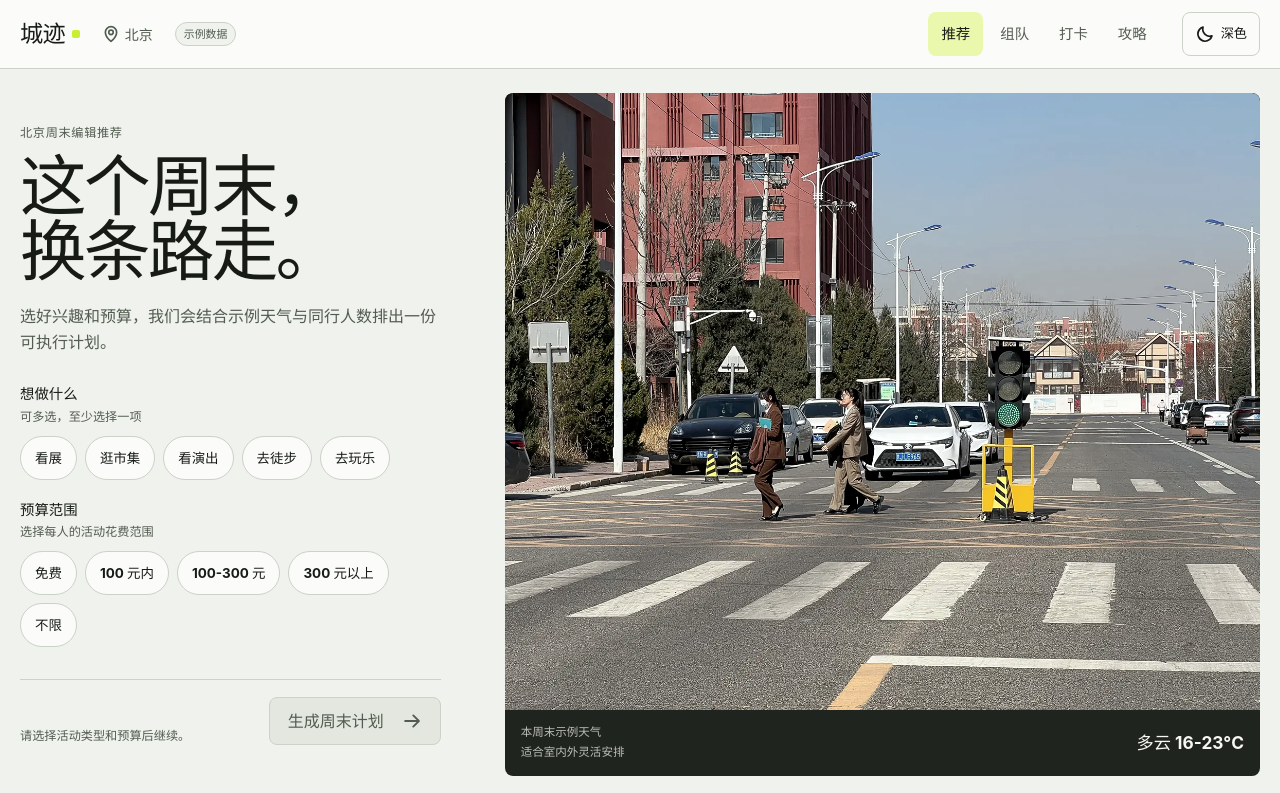
Test: shows a shell warning when onboarding preferences cannot persist
What coordinates should you click on to do the following:
click the checkbox labelled "看展"
I would click on:
 (48, 458)
Its box is [20, 436, 77, 480].
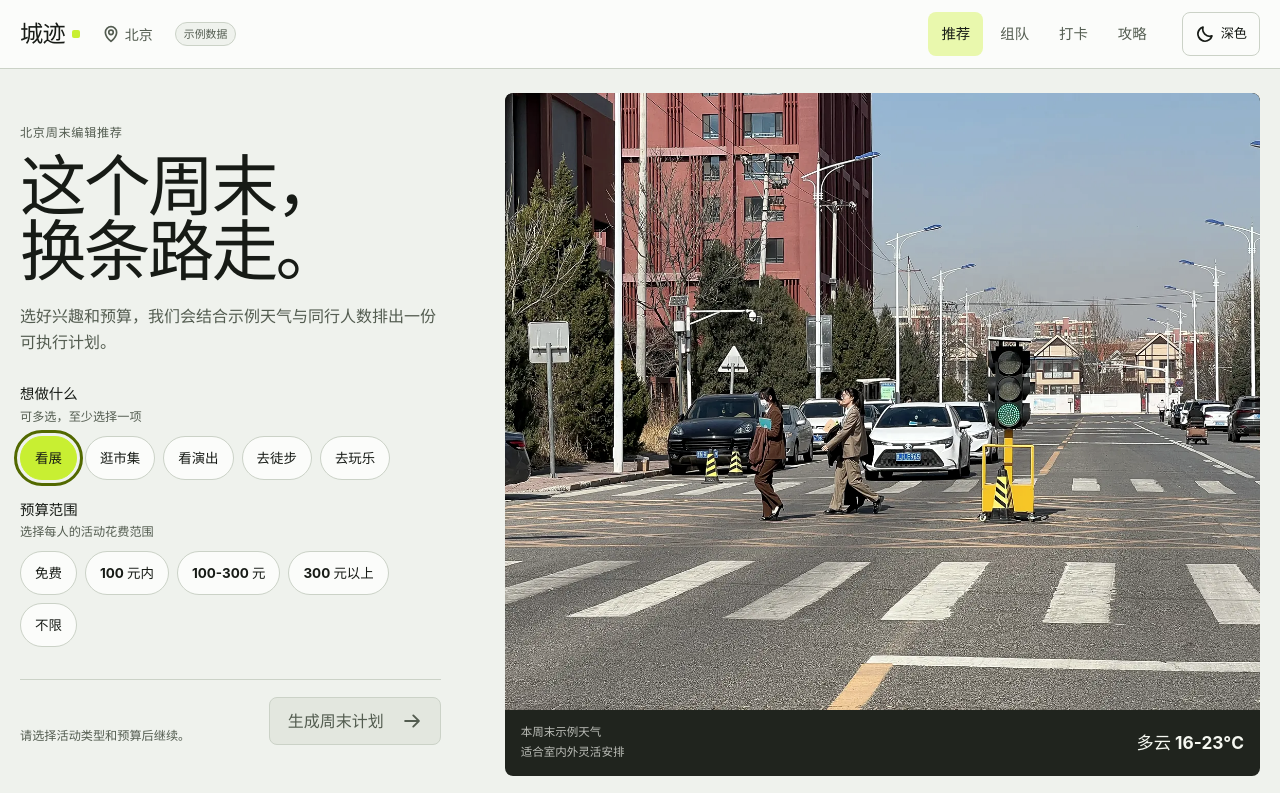
What coordinates should you click on to do the following:
click the radio button labelled "100 元内"
I would click on:
 (127, 573)
Its box is [85, 551, 169, 595].
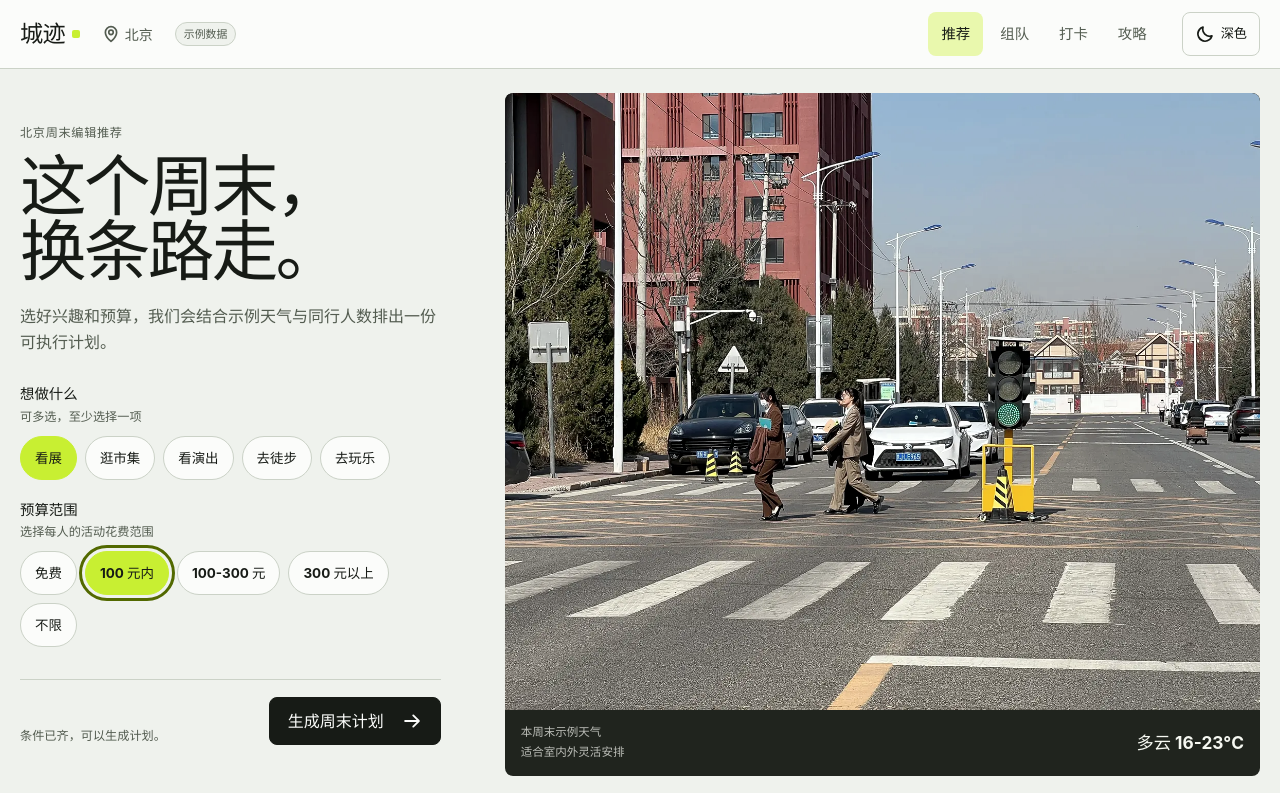
What coordinates should you click on to do the following:
click the button "生成周末计划"
I would click on:
 (355, 721)
Its box is [269, 697, 441, 745].
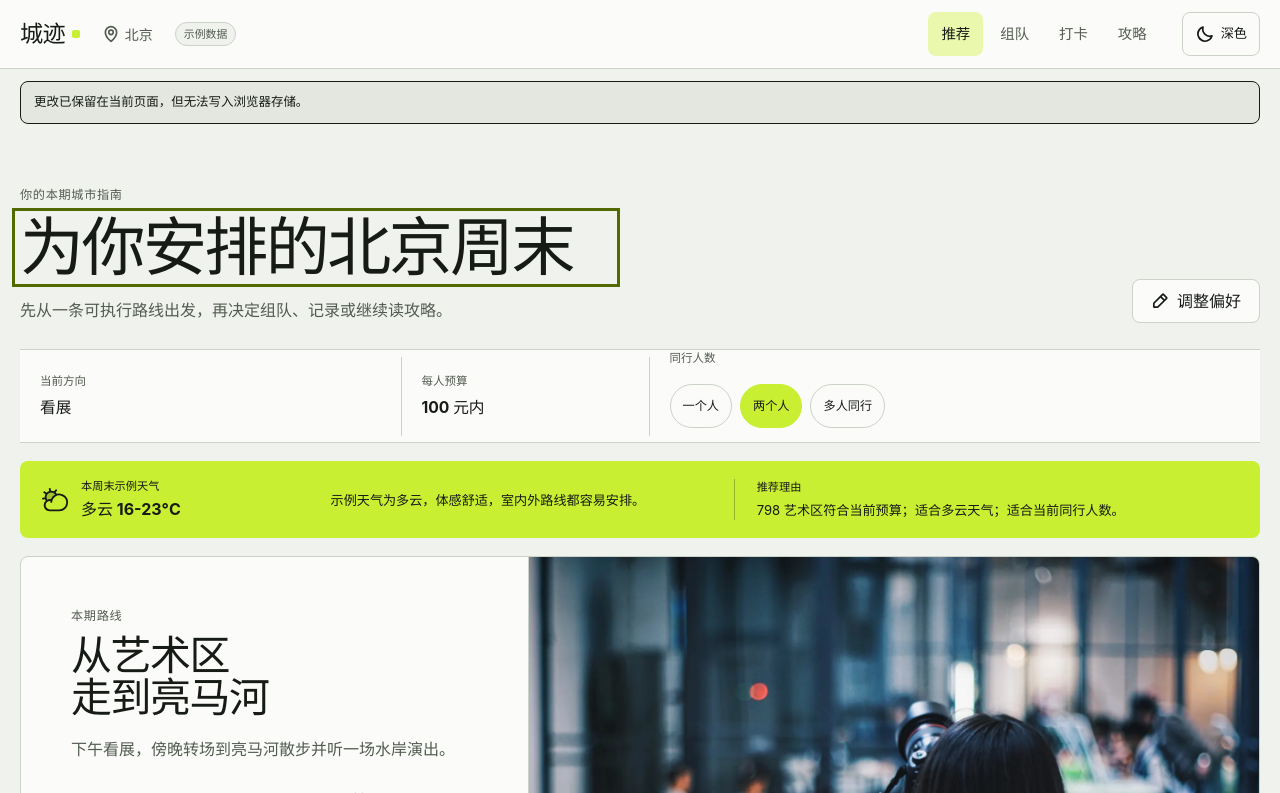
Check: the heading "为你安排的北京周末" is shown, box [20, 216, 612, 279]
Check: the message named "浏览器存储提示" reads "更改已保留在当前页面，但无法写入浏览器存储。", box [34, 94, 308, 109]
